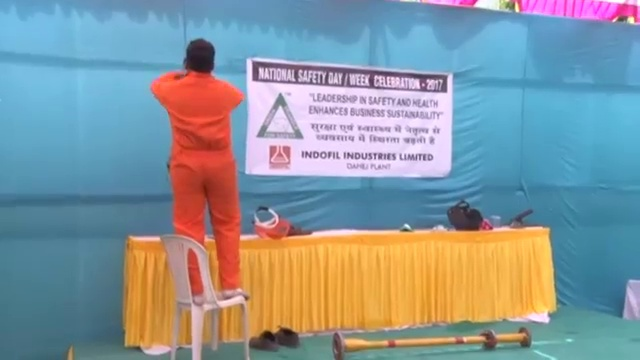helmet_off: (182, 36, 218, 76)
person: (154, 36, 252, 302)
